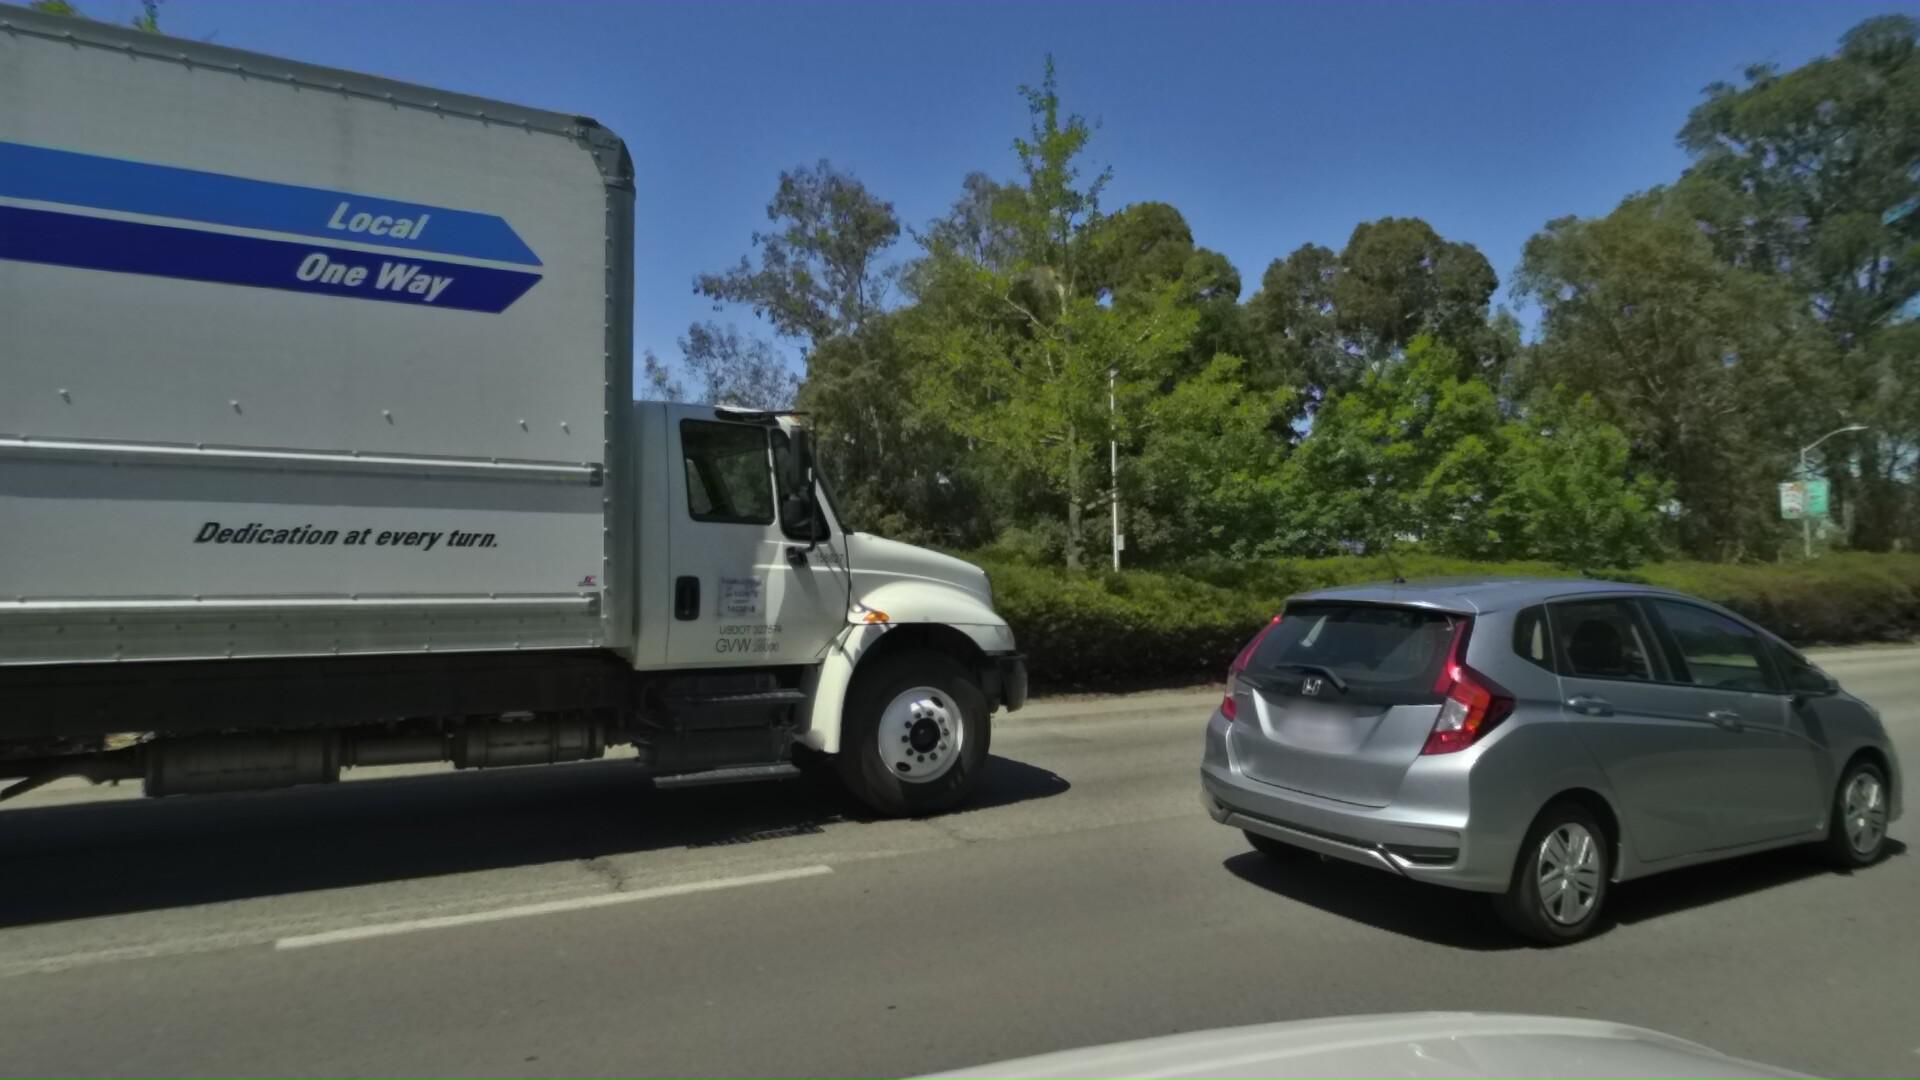car: (1146, 579, 1920, 1007)
truck: (0, 0, 1127, 1080)
